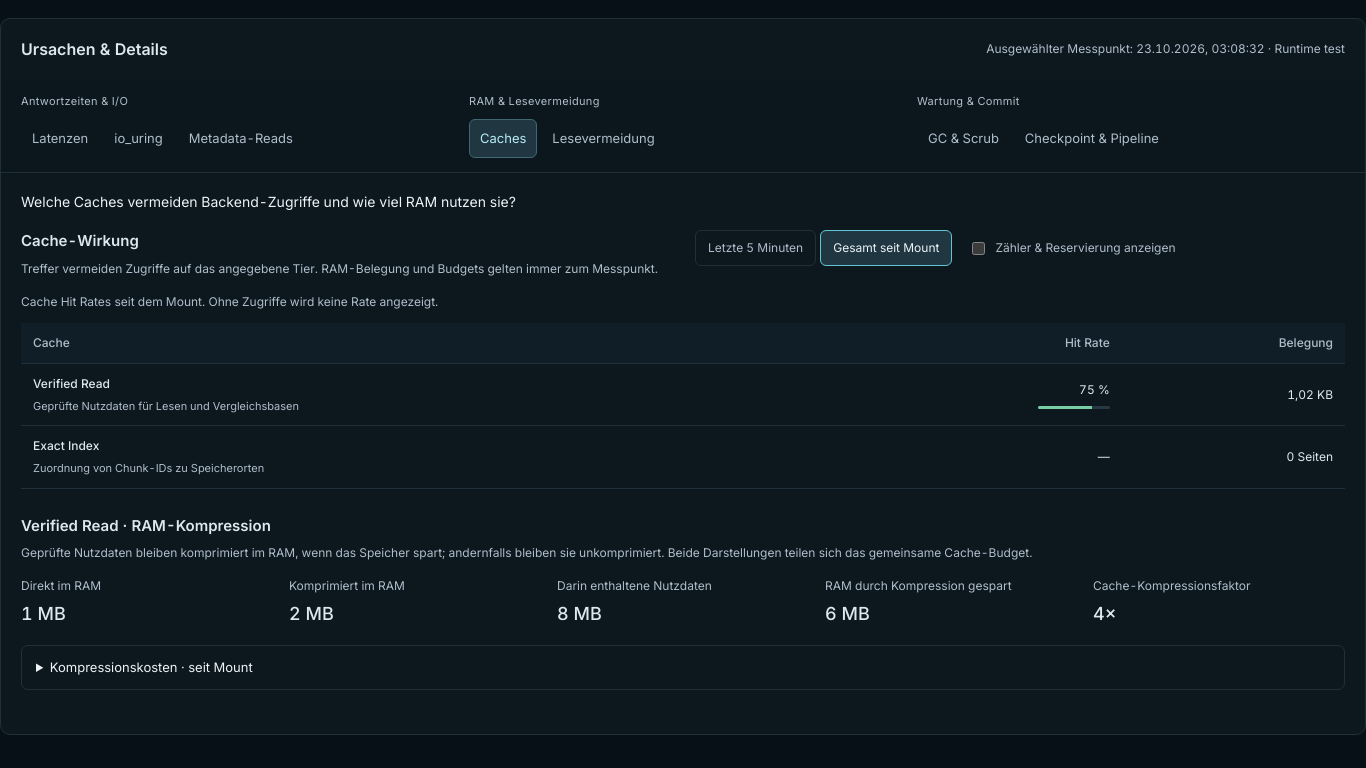
Test case: shows cache compression gauges at the selected sample and separate lifetime codec costs
The width and height of the screenshot is (1366, 768).
Check: the text "4×" is shown, box x1=1093 y1=603 x2=1116 y2=624
Check: the text "6 MB" is shown, box x1=825 y1=603 x2=870 y2=624
Click the button "Letzte 5 Minuten" at (756, 248), box x1=695 y1=230 x2=816 y2=266
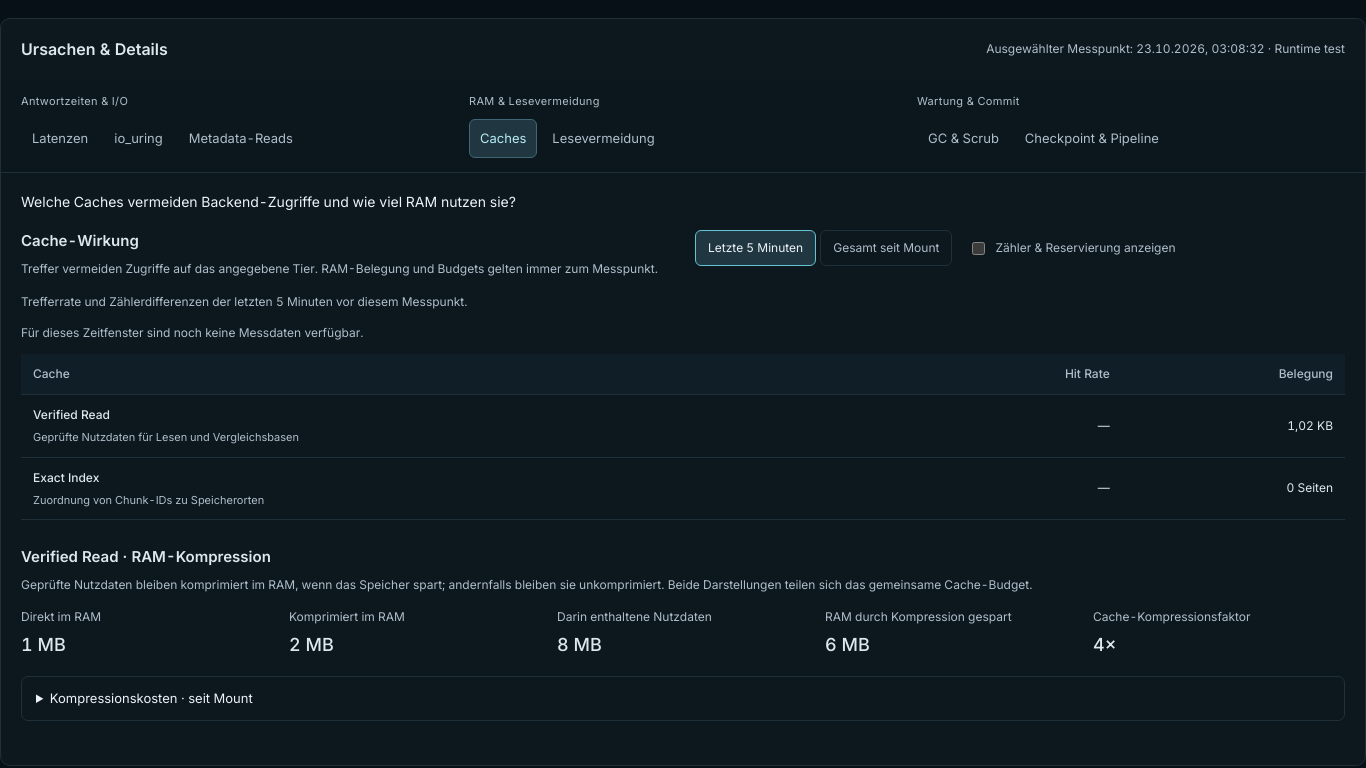
Check: the text "4×" is shown, box x1=1093 y1=634 x2=1116 y2=655
Click the heading "Kompressionskosten · seit Mount" at (151, 698), box x1=50 y1=690 x2=253 y2=706
(page scrolled)
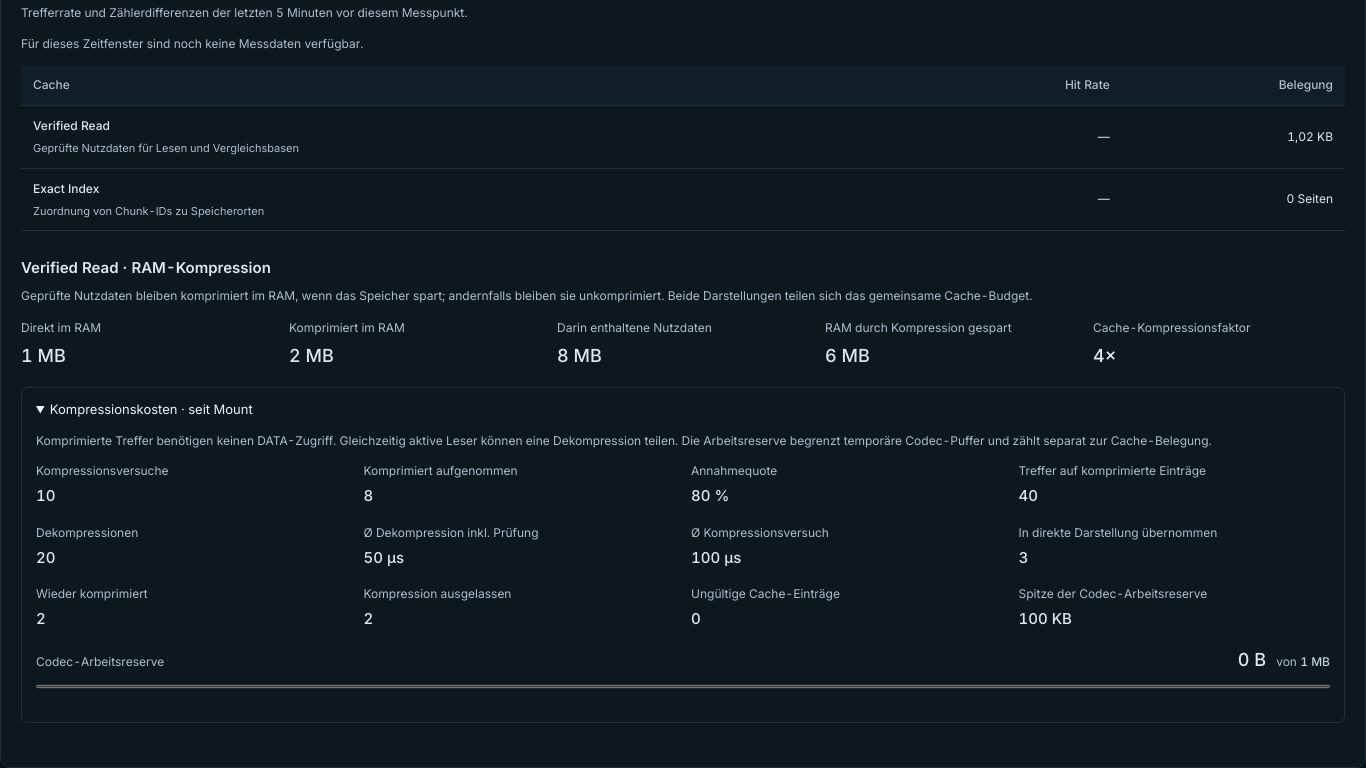
Check: the text "50 µs" is shown, box x1=364 y1=548 x2=404 y2=567
Check: the text "100 µs" is shown, box x1=691 y1=548 x2=741 y2=567
